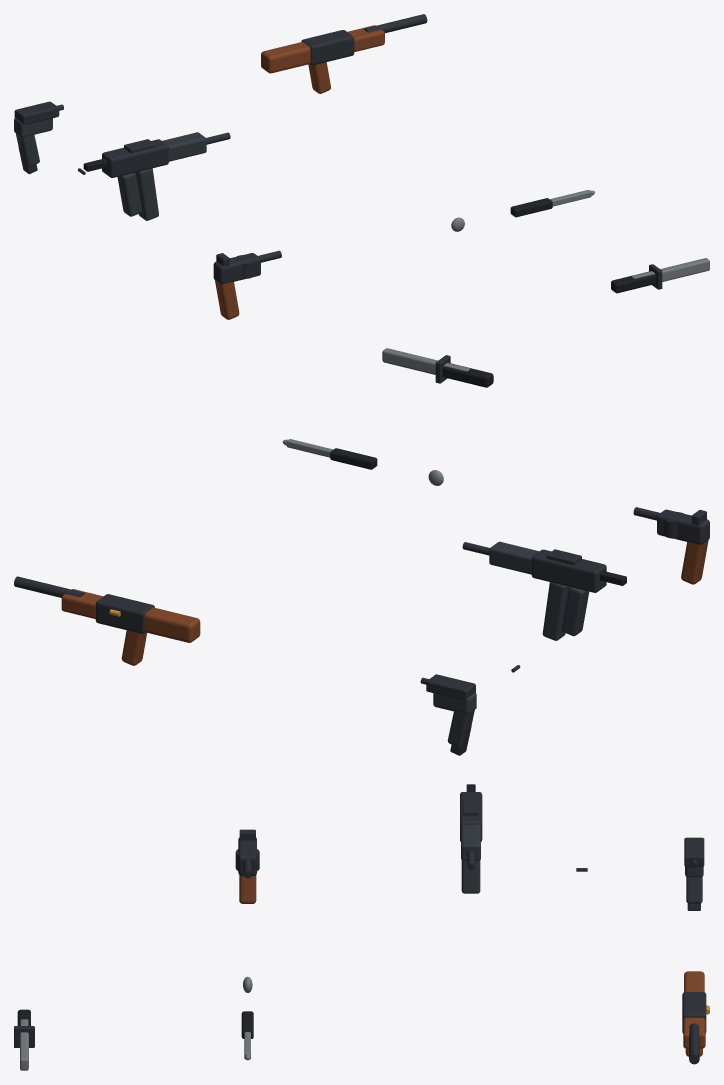
File: weapon_pack.fbx
3 renders of one model, top to bottom at view 1: azimuth 30°, elevation 25°; view 2: azimuth 150°, elevation 25°; view 3: azimuth 270°, elevation 25°, orthographic. The views are drawn at different scales.
Visible parts, largest first — view 1: ARP_Receiver, Shotgun_Receiver, Shotgun_Stock, ARP_Mag, ARP_Handguard, Revolver_Frame, ARP_Grip, Machete_Blade, Handgun_Slide, Revolver_Grip, Shotgun_Pump, Machete_Handle (+5 smaller); view 2: ARP_Receiver, Shotgun_Receiver, Shotgun_Stock, ARP_Mag, ARP_Handguard, Revolver_Frame, ARP_Grip, Machete_Blade, Handgun_Slide, Revolver_Grip, Shotgun_Pump, Machete_Handle (+3 smaller); view 3: Shotgun_Receiver, ARP_Handguard, ARP_Mag, Handgun_Slide, Revolver_Frame, ARP_Receiver, Revolver_Grip, Shotgun_Pump.
Boxes of the visible parts, x1=… form: ARP_Receiver: x1=102, y1=139, x2=168, y2=177; Shotgun_Receiver: x1=301, y1=30, x2=354, y2=65; Shotgun_Stock: x1=261, y1=42, x2=310, y2=73; ARP_Mag: x1=135, y1=168, x2=158, y2=220; ARP_Handguard: x1=162, y1=132, x2=206, y2=161; Revolver_Frame: x1=213, y1=253, x2=260, y2=284; ARP_Grip: x1=117, y1=172, x2=141, y2=216; Machete_Blade: x1=631, y1=258, x2=709, y2=281; Handgun_Slide: x1=14, y1=101, x2=59, y2=124; Revolver_Grip: x1=215, y1=280, x2=239, y2=319; Shotgun_Pump: x1=347, y1=25, x2=384, y2=51; Machete_Handle: x1=611, y1=271, x2=656, y2=293; ARP_Receiver: x1=531, y1=549, x2=606, y2=592; Shotgun_Receiver: x1=95, y1=594, x2=154, y2=633; Shotgun_Stock: x1=144, y1=607, x2=200, y2=642; ARP_Mag: x1=542, y1=582, x2=569, y2=640; ARP_Handguard: x1=489, y1=541, x2=538, y2=574; Revolver_Frame: x1=657, y1=509, x2=709, y2=544; ARP_Grip: x1=562, y1=587, x2=589, y2=636; Machete_Blade: x1=382, y1=348, x2=469, y2=374; Handgun_Slide: x1=426, y1=674, x2=475, y2=700; Revolver_Grip: x1=681, y1=540, x2=708, y2=584; Shotgun_Pump: x1=61, y1=589, x2=103, y2=618; Machete_Handle: x1=442, y1=363, x2=493, y2=387; Shotgun_Receiver: x1=682, y1=992, x2=706, y2=1033; ARP_Handguard: x1=461, y1=824, x2=480, y2=860; ARP_Mag: x1=461, y1=860, x2=480, y2=893; Handgun_Slide: x1=684, y1=837, x2=704, y2=866; Revolver_Frame: x1=238, y1=837, x2=256, y2=876; ARP_Receiver: x1=460, y1=792, x2=482, y2=841; Revolver_Grip: x1=239, y1=875, x2=256, y2=903; Shotgun_Pump: x1=683, y1=1017, x2=705, y2=1048.
Bounding box in the file's own units: 15 × 3.25 × 18.7.
